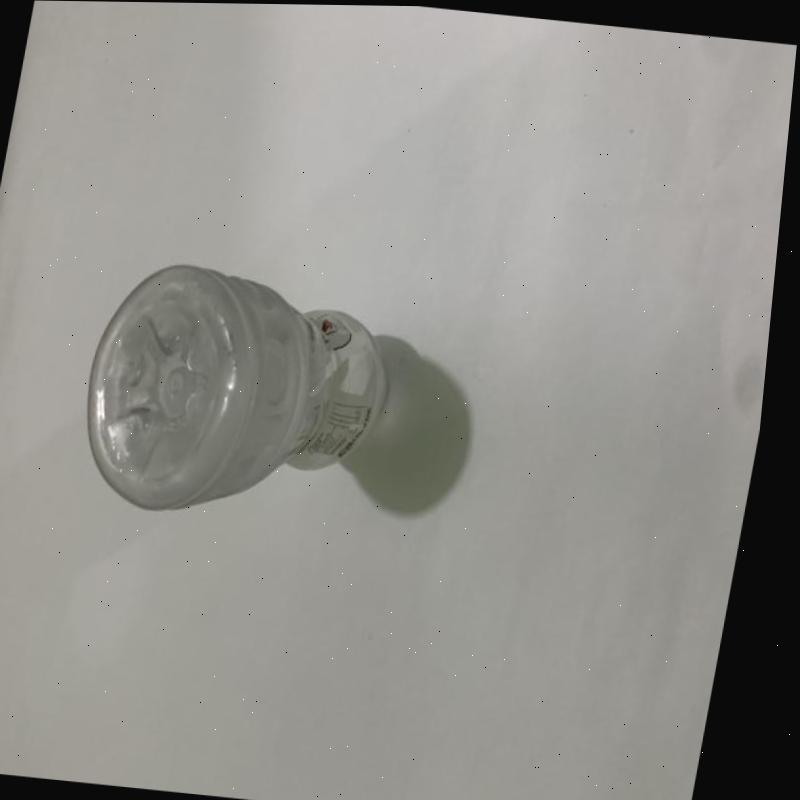botella: (72, 253, 422, 538)
